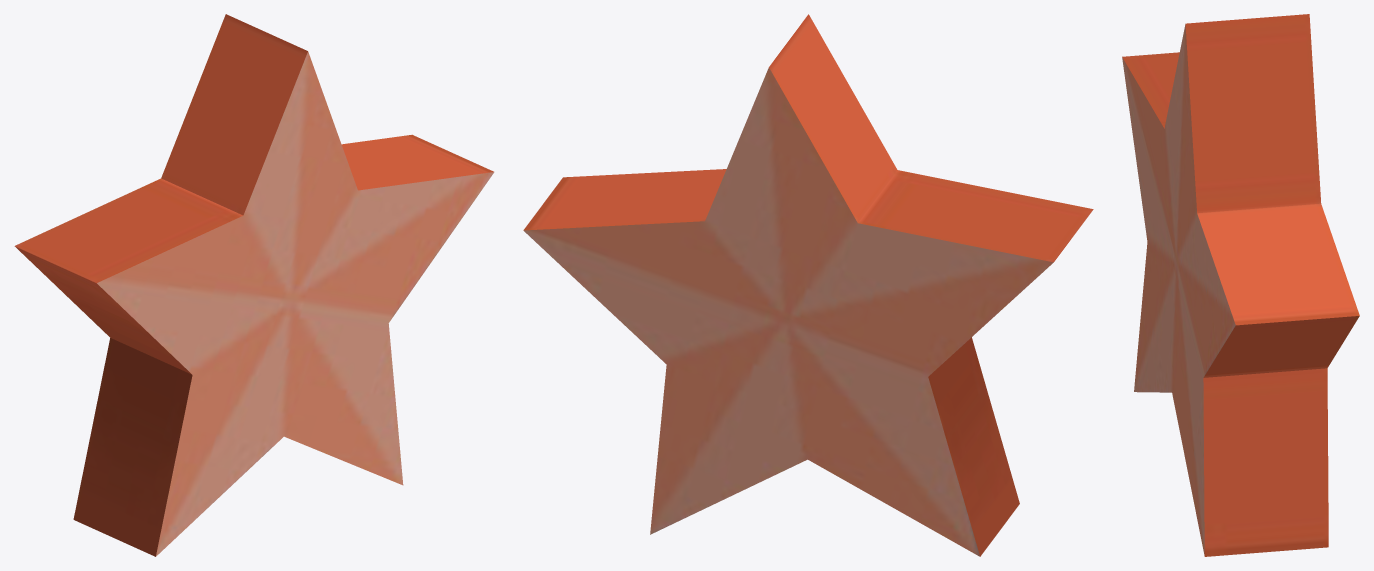
The model's file is wujiaoxing.FBX.
3 renders of one model, left to right at view 1: azimuth 30°, elevation 25°; view 2: azimuth 150°, elevation 25°; view 3: azimuth 270°, elevation 25°, orthographic. The views are drawn at different scales.
Visible parts, largest first — view 1: wujiaoxing; view 2: wujiaoxing; view 3: wujiaoxing.
Boxes of the visible parts, box(x1,y1,x2,y2) form: wujiaoxing: box(14, 14, 494, 556); wujiaoxing: box(523, 14, 1093, 556); wujiaoxing: box(1122, 14, 1359, 556).
Bounding box in the file's own units: 341 × 321 × 143.
Materials: 1 (1 with a texture image).
